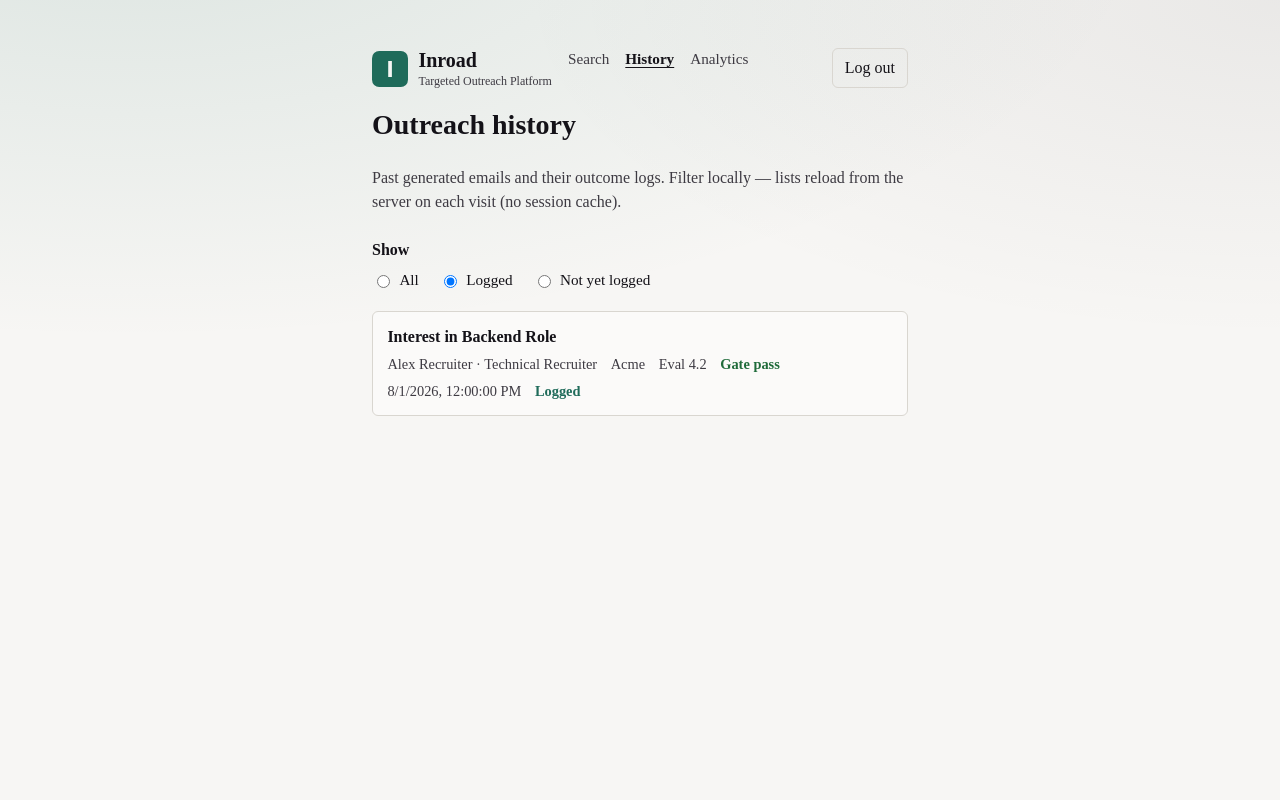
Test case: HistoryPage › collapses the expanded row when the filter tab changes
This screenshot has width=1280, height=800.
Step 1. Click the text "Interest in Backend Role" → (472, 336), box top-left (387, 328), bottom-right (556, 345)
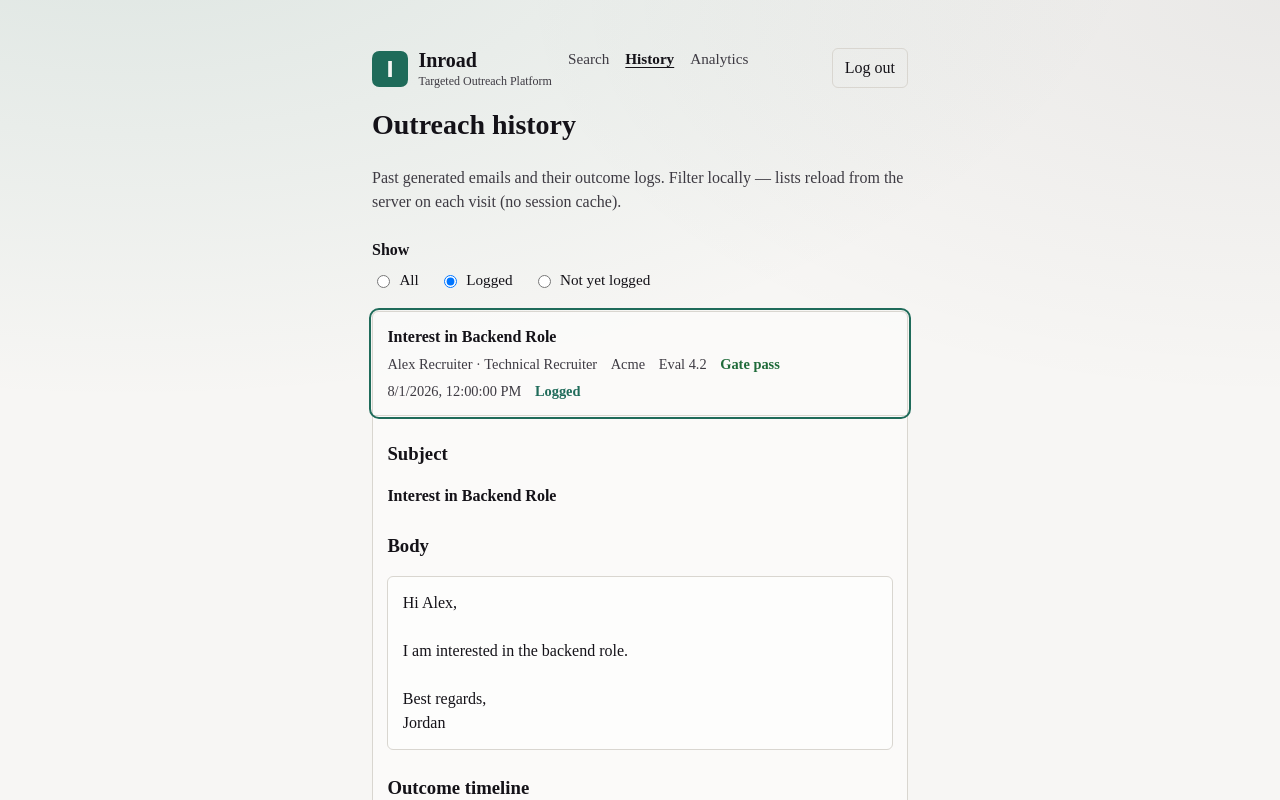
Check: the text "I am interested in the backend role" is shown, box top-left (403, 594), bottom-right (628, 731)
Step 2. Click the radio button labelled "All" → (384, 282), box top-left (377, 275), bottom-right (390, 288)
(page scrolled)
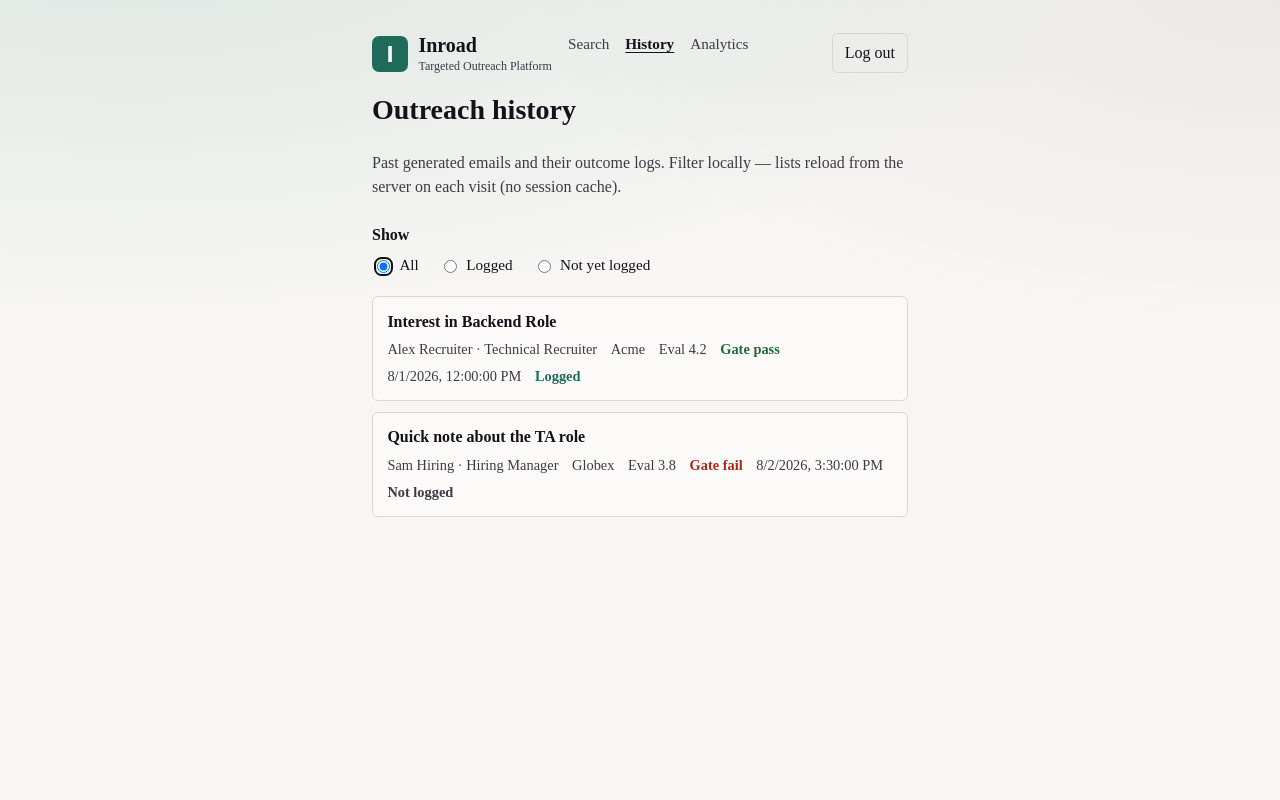
Check: the text "Interest in Backend Role" is shown, box top-left (387, 313), bottom-right (556, 330)
Check: the text "Quick note about the TA role" is shown, box top-left (387, 428), bottom-right (585, 445)
Check: the button "Interest in Backend Role" is collapsed, box top-left (373, 297), bottom-right (907, 400)
